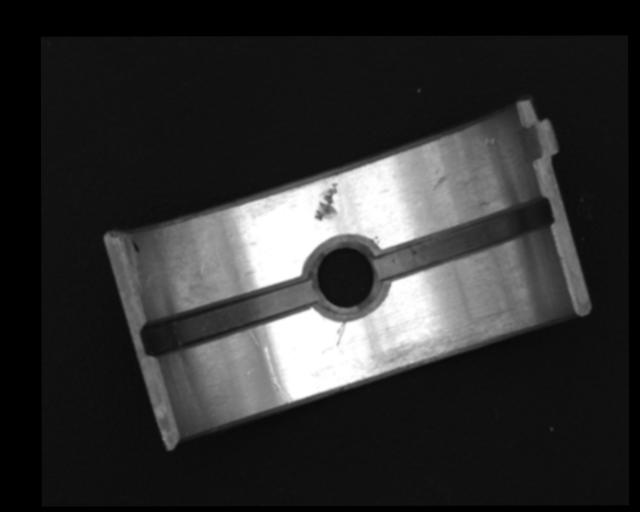blot: (130, 237, 140, 254)
bruise: (313, 181, 339, 222), (432, 167, 447, 190), (484, 135, 498, 145)
gap: (376, 198, 554, 283), (142, 275, 315, 356)
hole: (306, 238, 384, 317)
nick: (262, 344, 292, 404), (336, 321, 346, 347)
scratch: (369, 303, 537, 390)
